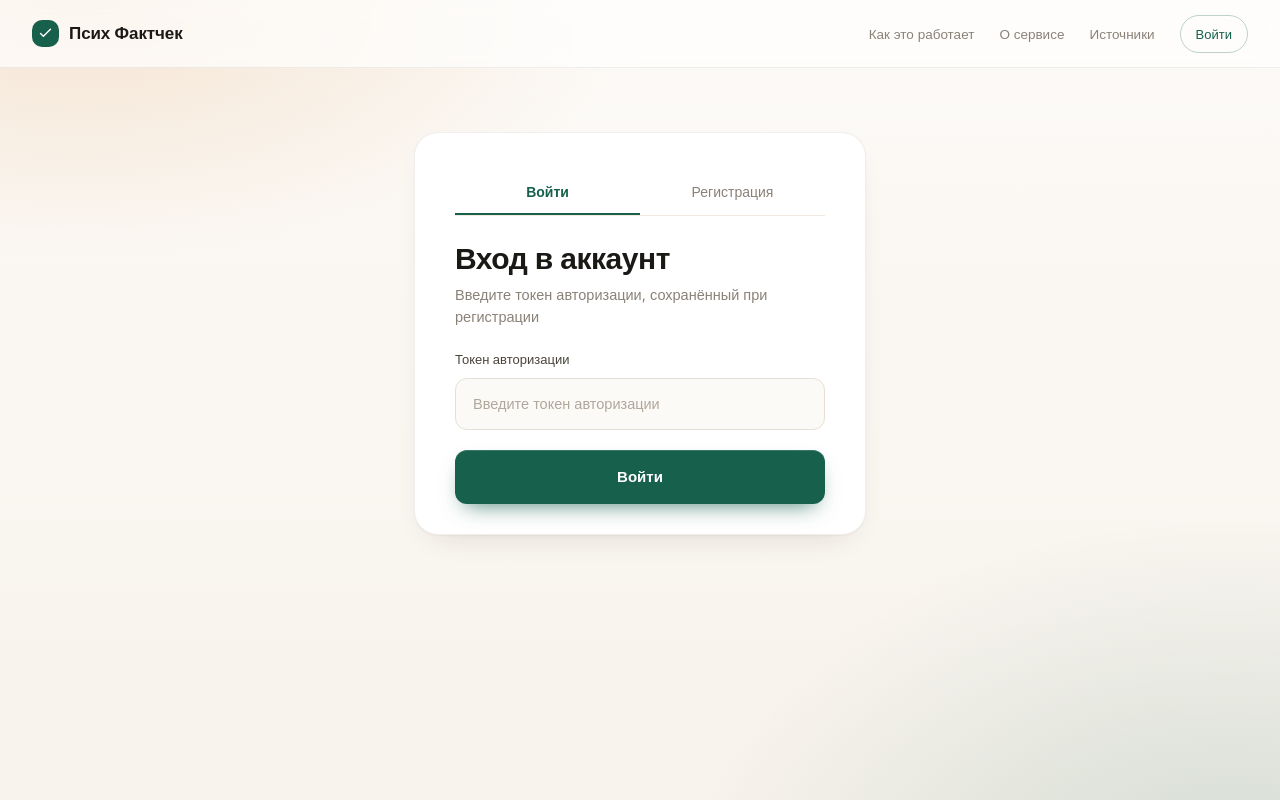
Test: AuthPreview › uses the server action for token login and preserves the entered token on error
The width and height of the screenshot is (1280, 800).
Type "pfc_invalid" into the password field labelled "Токен авторизации" at (640, 404), box [471, 392, 809, 417]
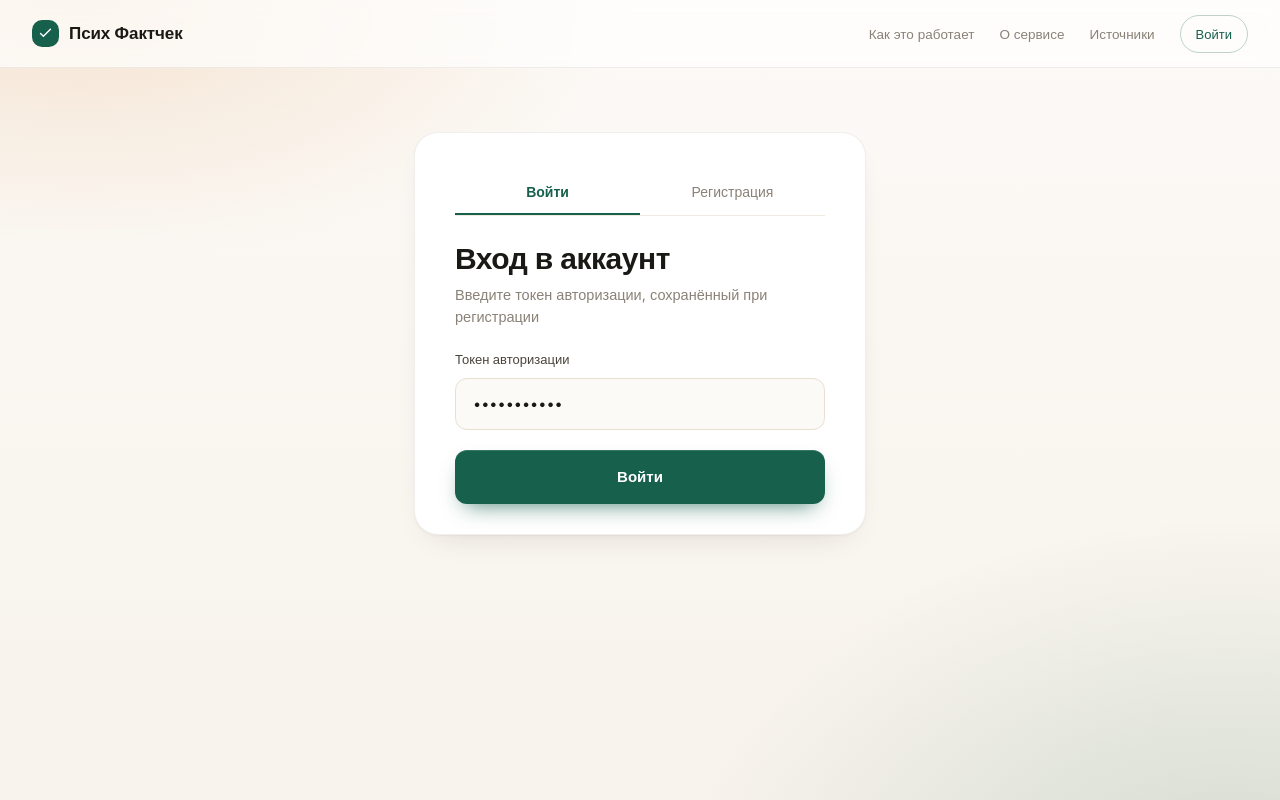
Submit the form named "Авторизация", box [414, 132, 866, 535]
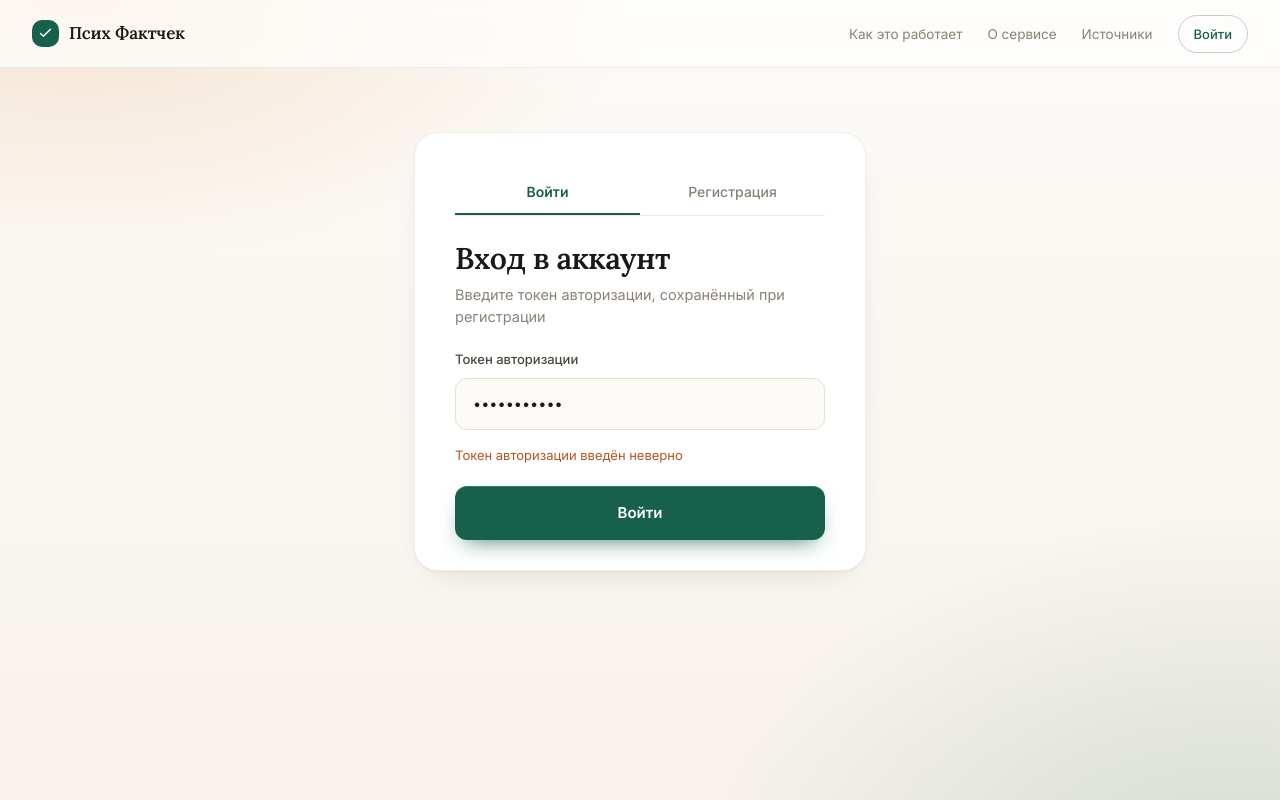
Result: the message reads "Токен авторизации введён неверно" at [455, 447, 683, 463]
